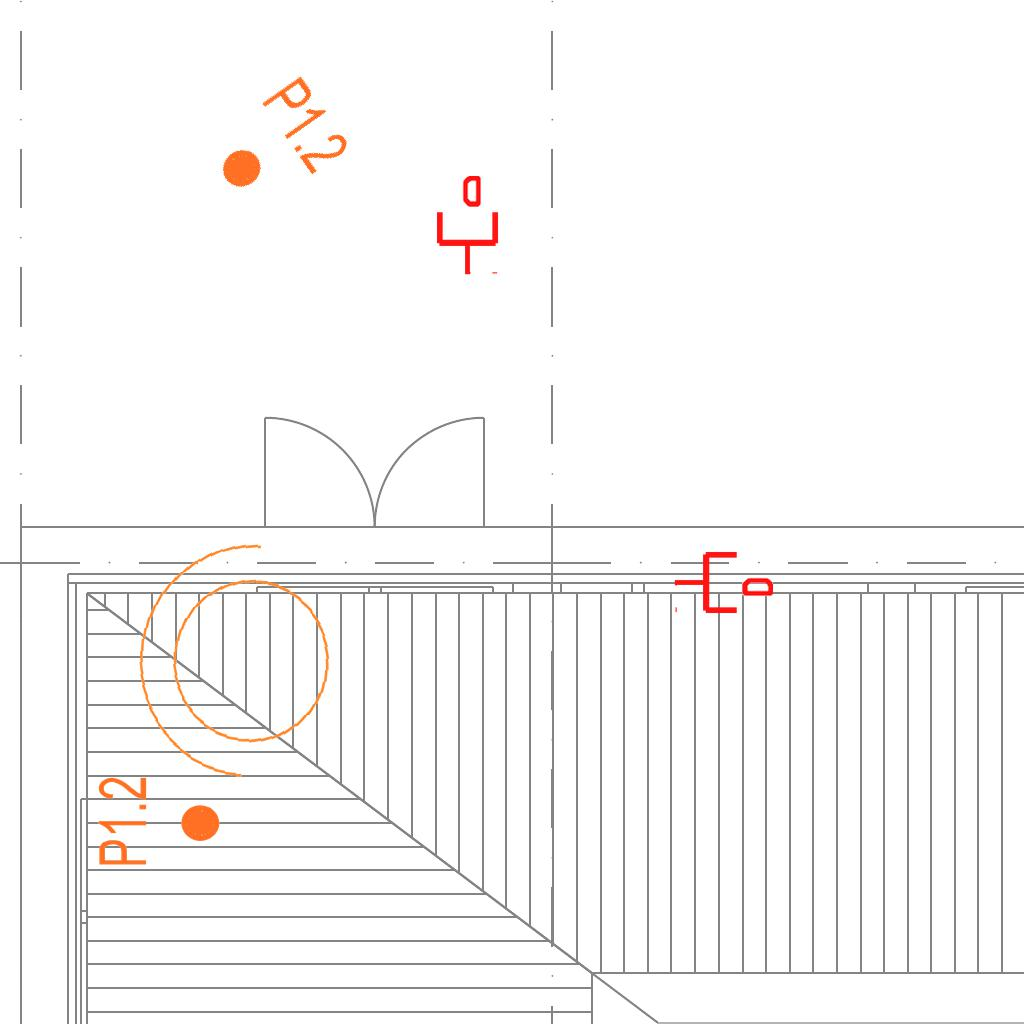Datenanschluss_einfach: (433, 176, 502, 276), (673, 548, 773, 617)
Downlight_LED_Einbauleuchten_Flur: (197, 71, 356, 221), (95, 775, 223, 868)
Scheinwerfer_fuer_Alarmbeleuchtung: (117, 525, 365, 808)
